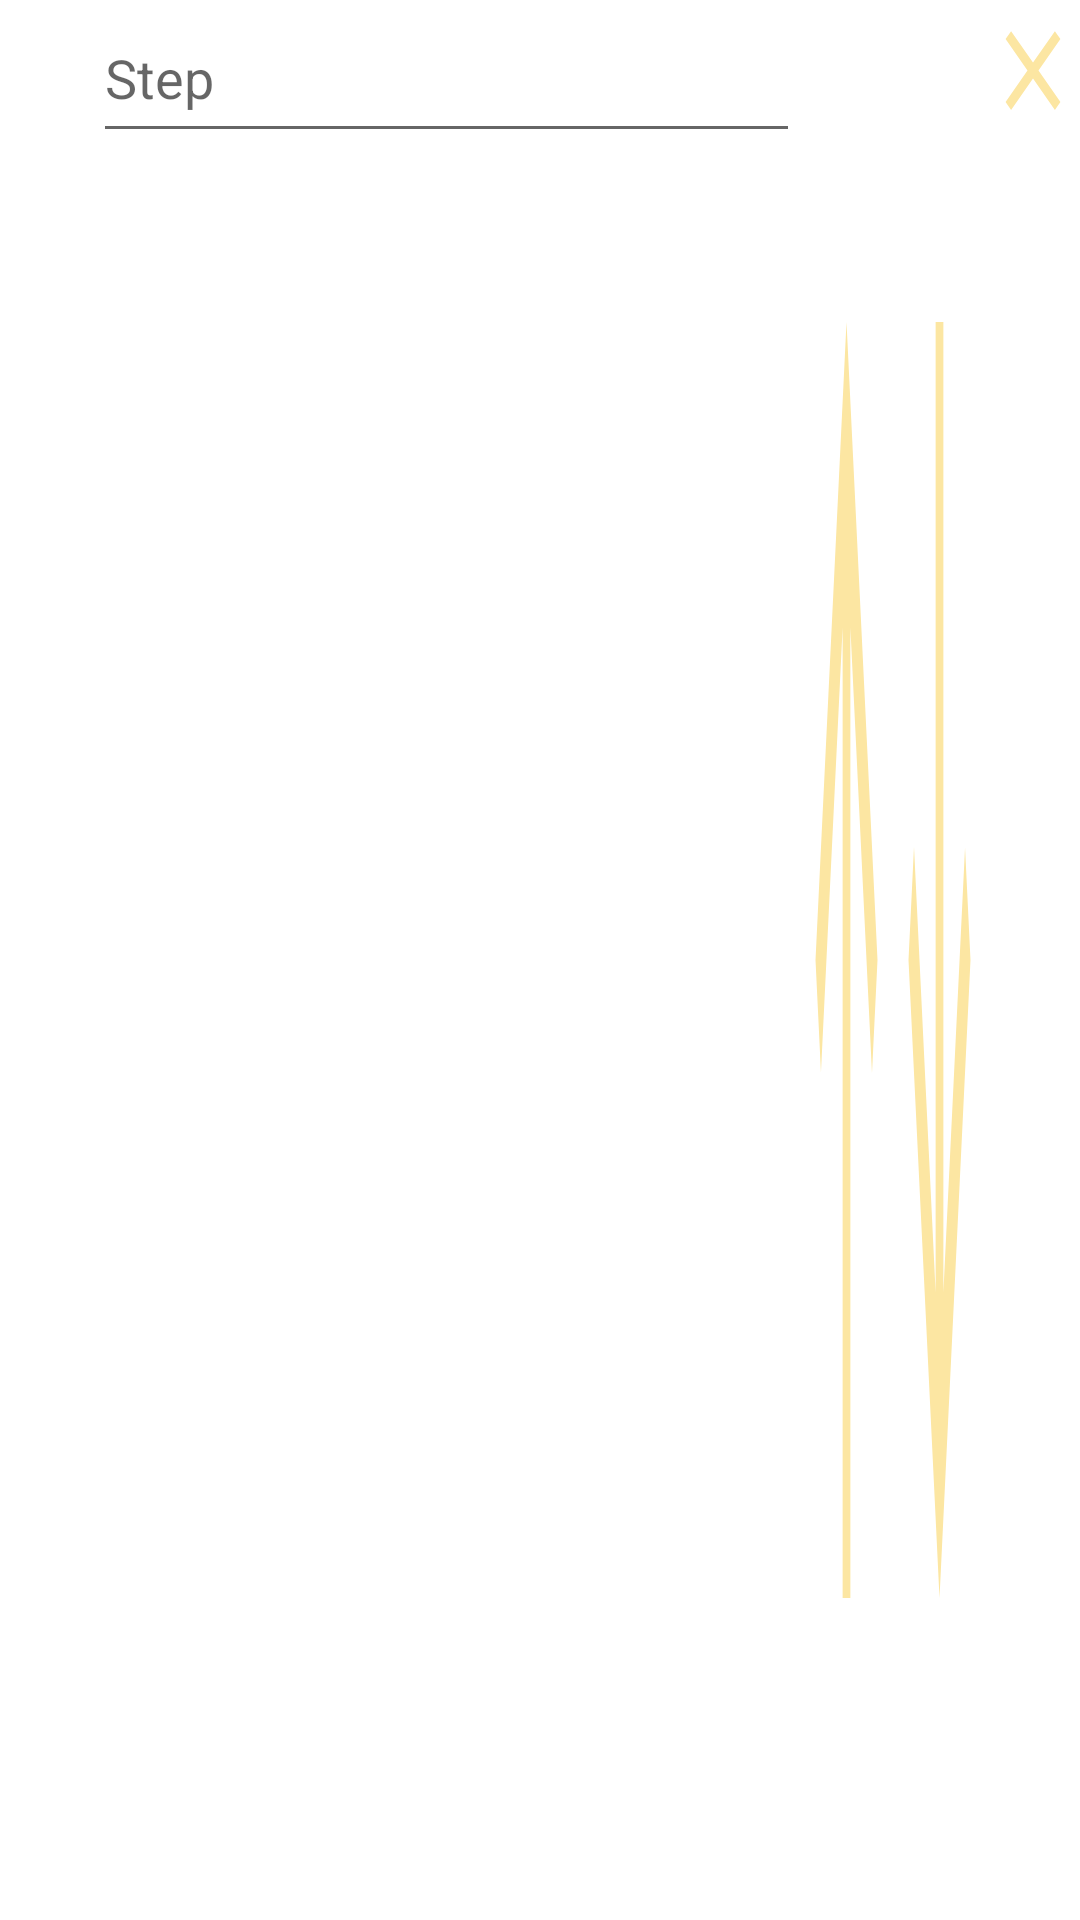

Screen size 1080px x 1920px. Icon name, then its center in pixels as (x=x, y=y):
close: (x=1033, y=70)
